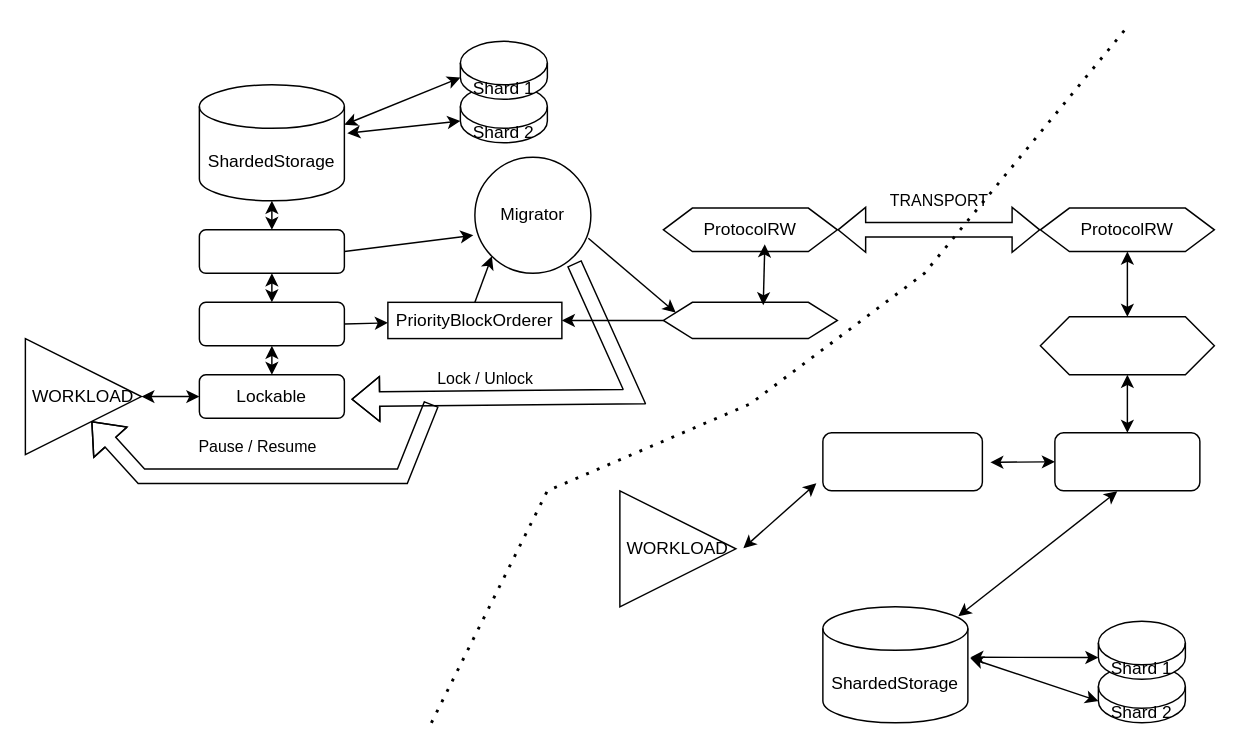
This 1240x750 diagram has some shape labels left out. Here are the shapes that lost their labels. From the top down, the box of each, then its label:
(198, 228, 344, 273): DirtyTracker
(198, 301, 344, 346): VolatilityMonitor
(662, 301, 837, 339): ToProtocol
(1039, 315, 1214, 375): FromProtocol
(821, 431, 982, 491): ReadOnlyGate
(1053, 431, 1200, 491): WaitingCache
